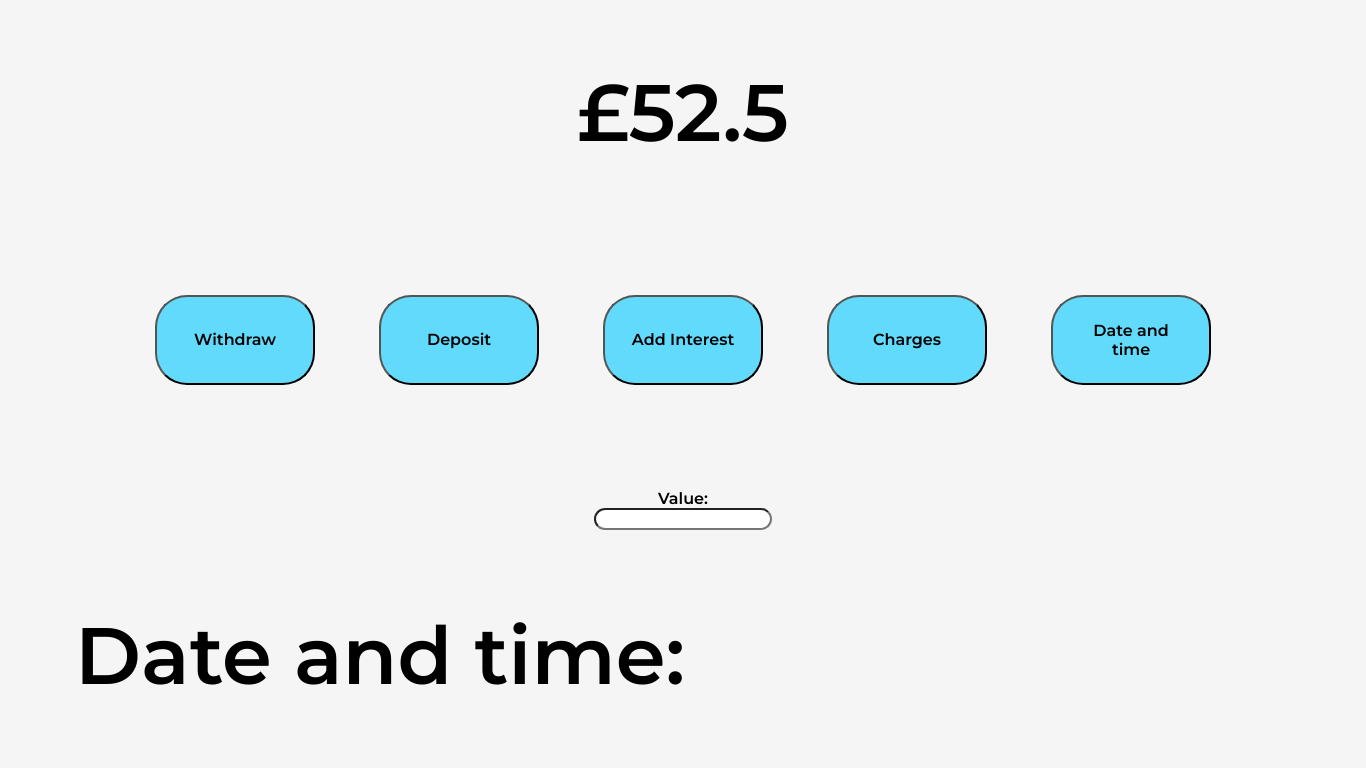
App component › updates value after applying charges
Click the button "Charges" at (907,340), box [827,294,987,384]
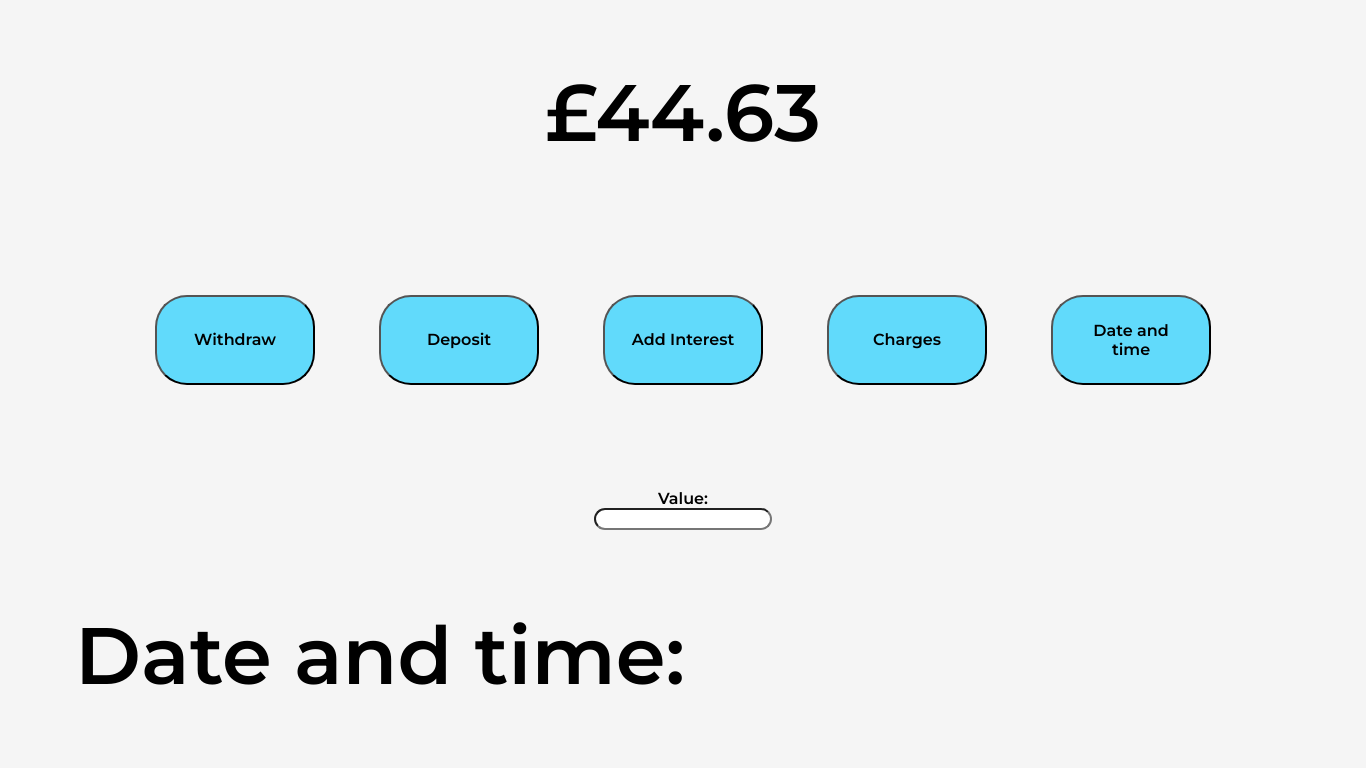
Check: the heading "£44.63" is shown, box [545,64,821,161]
